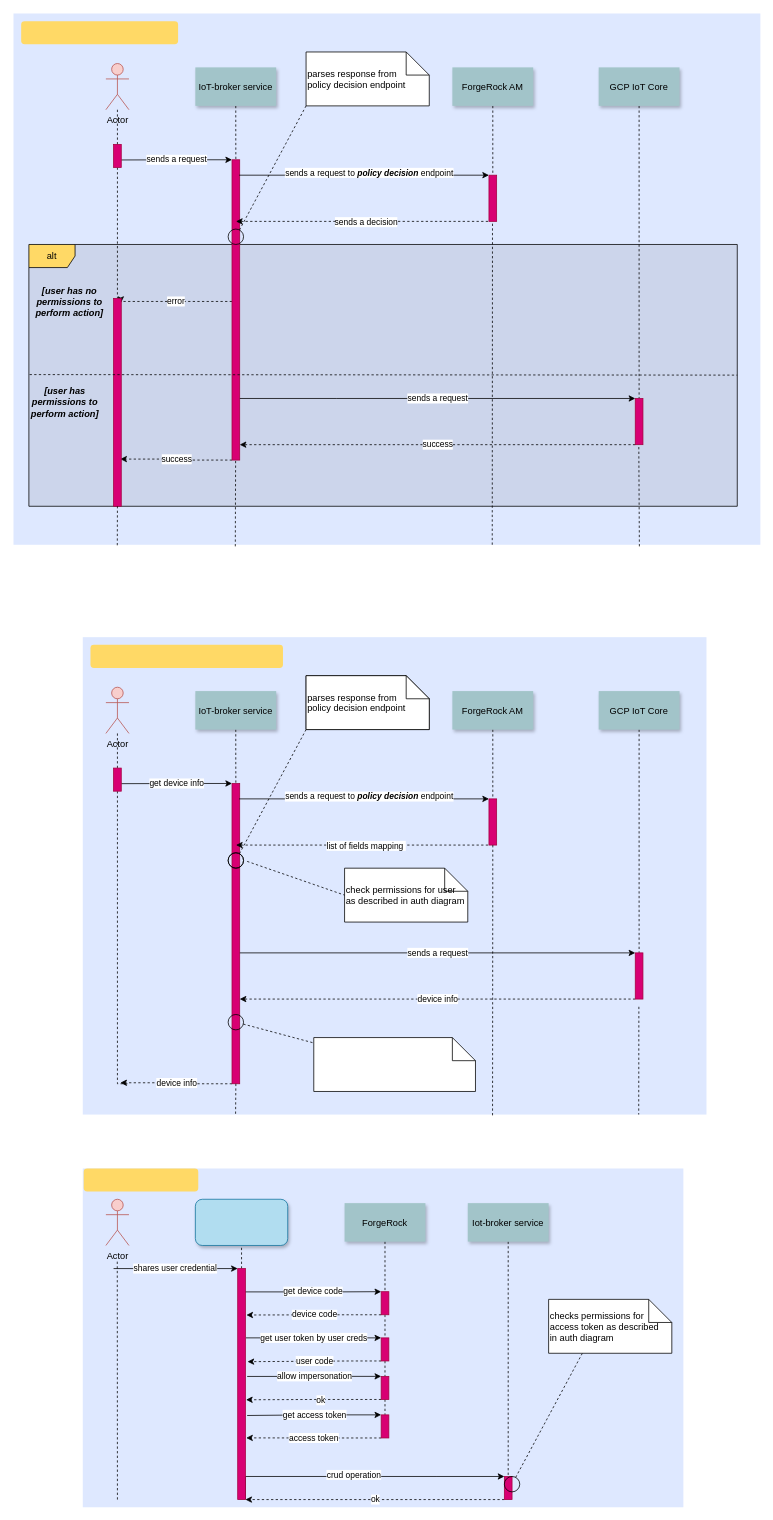
The diagram is 773 pixels wide and 1520 high, and some of its shapes have lost their labels. Here are the shapes that lost their labels. From the top down, the centre of each, then its label:
pixel 99 32: user authorization on service side
pixel 186 656: decision what properties to return user
pixel 394 1064: filters fields from GCP response by mapping from FR
pixel 140 1179: device impersonation
pixel 241 1223: Device
